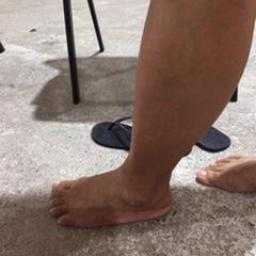Lateral View -Left Foot-: (43, 138, 196, 232)
